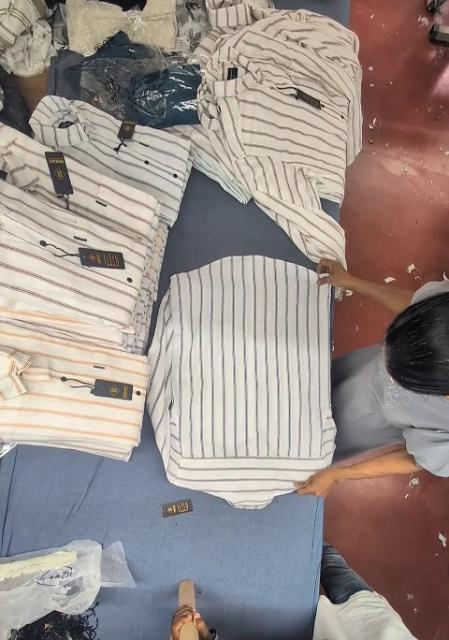new-garment: (147, 255, 335, 507)
